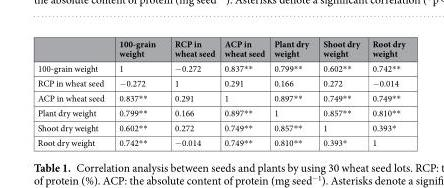table: (36, 37, 404, 149)
table column: (36, 37, 111, 149), (164, 37, 219, 149), (111, 37, 164, 149), (315, 37, 365, 149), (219, 37, 268, 149), (268, 37, 315, 149), (365, 37, 404, 149)
table column header: (36, 37, 404, 60)
table row: (36, 37, 404, 60), (36, 89, 404, 105), (36, 60, 404, 75), (36, 105, 404, 120), (36, 134, 404, 149), (36, 75, 404, 89), (36, 120, 404, 134)
